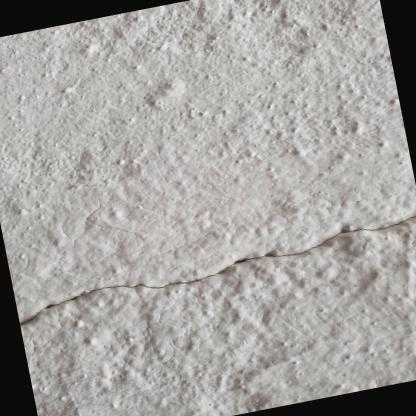crack: (18, 215, 416, 324), (19, 215, 416, 324)
